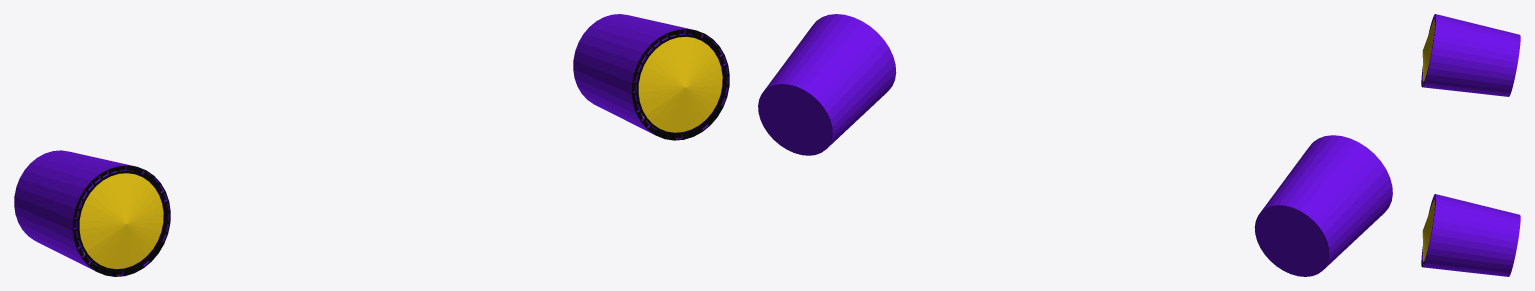
Rendered from headlight.glb.
3 renders of one model, left to right at view 1: azimuth 30°, elevation 25°; view 2: azimuth 150°, elevation 25°; view 3: azimuth 270°, elevation 25°, orthographic. The views are drawn at different scales.
Visible parts, largest first — view 1: headlight_r, headlight_l; view 2: headlight_l, headlight_r; view 3: headlight_l, headlight_r.
Boxes of the visible parts, <box> form: headlight_r: <box>14,150,170,276</box>; headlight_l: <box>573,14,729,140</box>; headlight_l: <box>758,14,896,155</box>; headlight_r: <box>1254,135,1392,276</box>; headlight_l: <box>1421,194,1520,276</box>; headlight_r: <box>1421,14,1520,96</box>.
Size of the model in its own units: 2 by 0.3397 by 0.3972.
